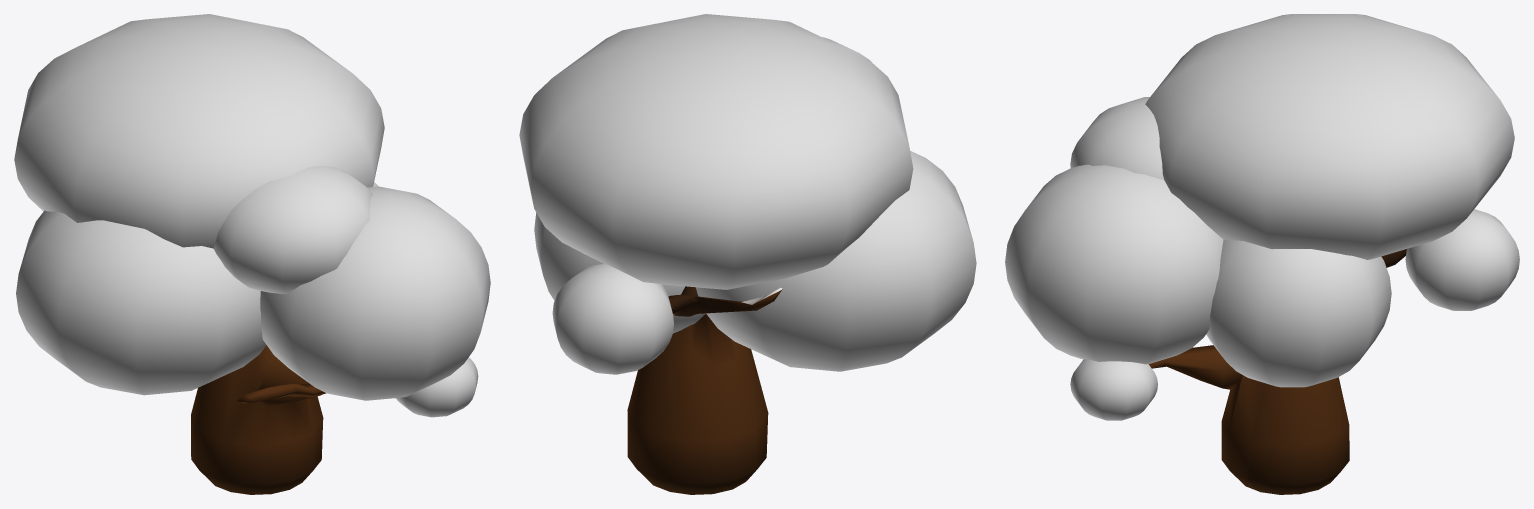
Rendered from tree.fbx.
3 views of the same model, side by side, from view 1: azimuth 30°, elevation 25°; view 2: azimuth 150°, elevation 25°; view 3: azimuth 270°, elevation 25° (orthographic). The views are drawn at different scales.
Visible parts, largest first — view 1: Sphere.010, Cylinder.001, Sphere.000; view 2: Sphere.010, Cylinder.001; view 3: Sphere.010, Cylinder.001, Sphere.000.
Boxes of the visible parts, x1,y1,x2,y2 form: Sphere.010: (14,14,490,417); Cylinder.001: (191,345,326,494); Sphere.000: (213,179,372,294); Sphere.010: (519,14,976,374); Cylinder.001: (627,286,782,494); Sphere.010: (1005,14,1519,420); Cylinder.001: (1149,249,1406,494); Sphere.000: (1070,121,1163,180).
Size of the model in its own units: 141 by 158 by 176.
